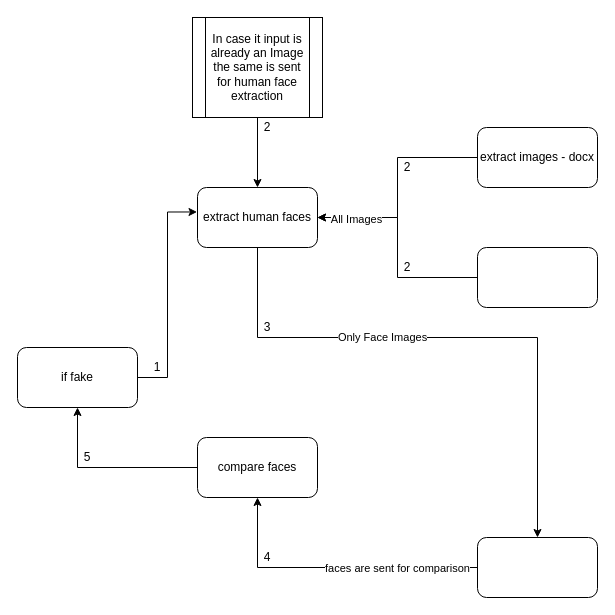
Image size: 615x615. Some labels were removed from this diagram. The shapes that lost their labels are listed below. From the top down, each one's box as (x1, y1, x2, y2) in pixels, then its label:
(476, 246, 598, 308): extract images - pdf
(476, 536, 598, 598): get faces
